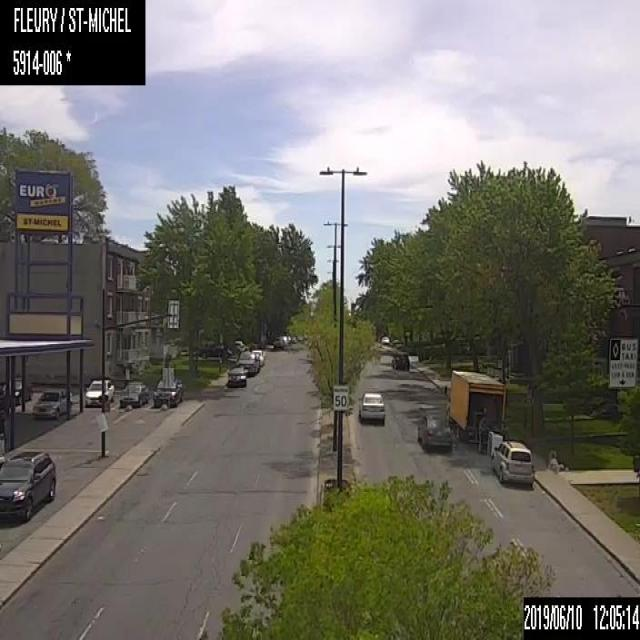vehicle: (443, 368, 508, 452), (0, 451, 55, 520), (489, 439, 534, 487), (416, 413, 452, 453), (151, 366, 183, 407), (32, 388, 71, 418), (358, 390, 385, 424), (84, 378, 114, 407), (119, 382, 148, 406), (9, 376, 30, 404), (198, 341, 232, 357), (238, 350, 259, 375), (227, 365, 246, 386), (390, 351, 409, 370), (230, 339, 248, 352), (252, 348, 265, 366), (272, 336, 284, 348), (380, 336, 389, 344)
